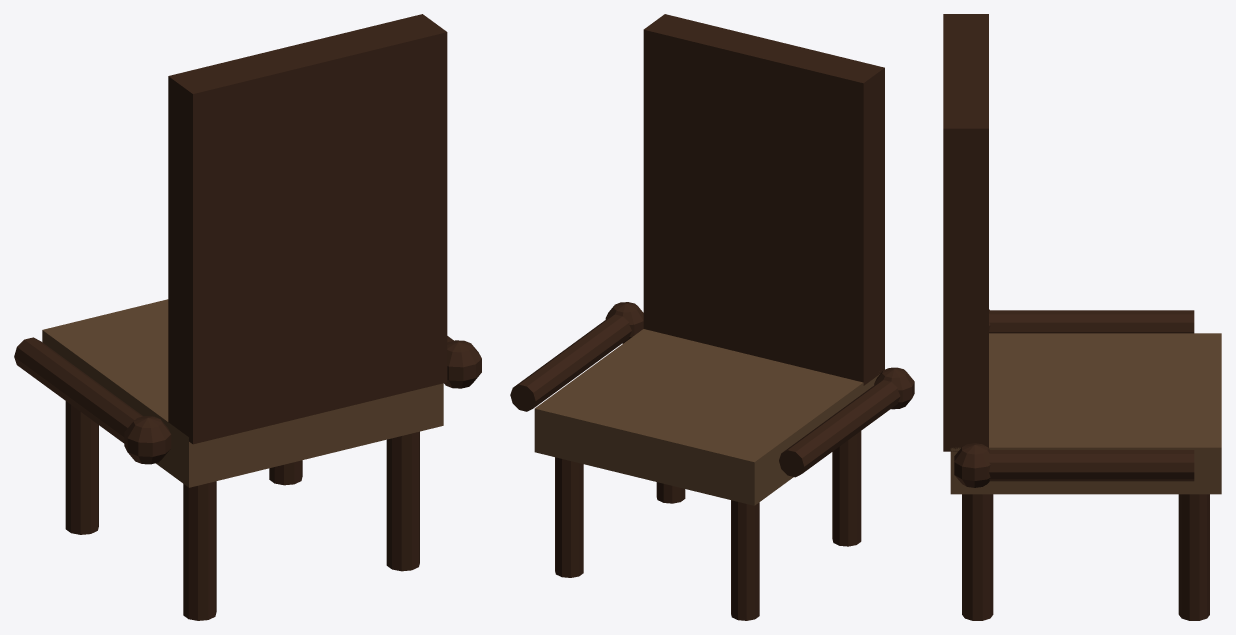
File: GalakasMidCity_INT_Bench_Armrest_Decorative_01.obj
The picture shows the model from 3 angles, left to right: view 1: azimuth 30°, elevation 25°; view 2: azimuth 150°, elevation 25°; view 3: azimuth 270°, elevation 25°; orthographic projection. The views are drawn at different scales.
Visible parts, largest first — view 1: back, seat, armrest_-0_58, leg_-0_38_0_38, leg_0_38_0_38, leg_-0_38_-0_38, armrest_cap_-0_58, armrest_cap_0_58, leg_0_38_-0_38; view 2: back, seat, armrest_-0_58, armrest_0_58, leg_-0_38_-0_38, leg_0_38_-0_38, leg_-0_38_0_38, armrest_cap_-0_58, armrest_cap_0_58; view 3: seat, back, armrest_0_58, armrest_-0_58, leg_0_38_-0_38, leg_0_38_0_38, armrest_cap_0_58.
Part boxes in pixels (x1,y1,x2,y2): back: (168, 14, 447, 444); seat: (42, 299, 443, 487); armrest_-0_58: (14, 337, 143, 443); leg_-0_38_0_38: (183, 481, 216, 620); leg_0_38_0_38: (386, 431, 419, 571); leg_-0_38_-0_38: (65, 401, 98, 534); armrest_cap_-0_58: (124, 416, 171, 464); armrest_cap_0_58: (444, 340, 481, 388); leg_0_38_-0_38: (269, 460, 302, 485); back: (643, 14, 884, 385); seat: (534, 329, 879, 505); armrest_-0_58: (782, 380, 900, 473); armrest_0_58: (514, 314, 631, 408); leg_-0_38_-0_38: (731, 500, 759, 620); leg_0_38_-0_38: (555, 457, 583, 577); leg_-0_38_0_38: (832, 431, 861, 546); armrest_cap_-0_58: (874, 367, 914, 409); armrest_cap_0_58: (605, 302, 643, 343); seat: (950, 333, 1221, 494); back: (943, 14, 988, 451); armrest_0_58: (989, 450, 1194, 481); armrest_-0_58: (989, 310, 1194, 333); leg_0_38_-0_38: (1178, 494, 1209, 620); leg_0_38_0_38: (962, 494, 993, 620); armrest_cap_0_58: (954, 443, 990, 487).
Size of the model in its own units: 1.31 by 1.93 by 0.975.
